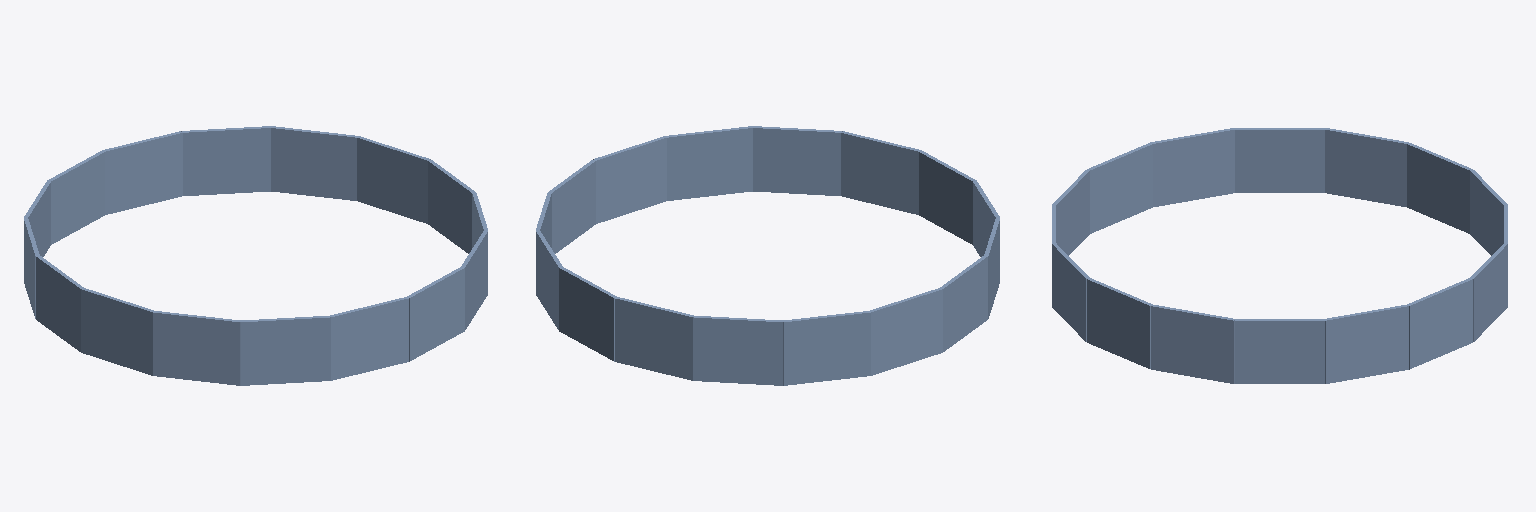
Rendered from ring.obj.
3 renders of one model, left to right at view 1: azimuth 30°, elevation 25°; view 2: azimuth 150°, elevation 25°; view 3: azimuth 270°, elevation 25°, orthographic.
Visible parts, largest first — view 1: Wall4, Wall6, Wall8, Wall2, Wall1, Wall10, Wall15, Wall12, Wall16, Wall7, Wall11, Wall14 (+3 smaller); view 2: Wall7, Wall16, Wall9, Wall13, Wall10, Wall1, Wall3, Wall5, Wall6, Wall4, Wall11, Wall14 (+3 smaller); view 3: Wall14, Wall11, Wall5, Wall12, Wall15, Wall3, Wall2, Wall13, Wall8, Wall9, Wall16, Wall6 (+2 smaller).
Boxes of the visible parts, x1=… form: Wall4: x1=241, y1=316, x2=330, y2=385; Wall6: x1=181, y1=126, x2=270, y2=195; Wall8: x1=153, y1=311, x2=240, y2=385; Wall2: x1=271, y1=126, x2=357, y2=200; Wall1: x1=330, y1=297, x2=408, y2=380; Wall10: x1=103, y1=131, x2=182, y2=214; Wall15: x1=81, y1=288, x2=153, y2=375; Wall12: x1=357, y1=136, x2=430, y2=223; Wall16: x1=407, y1=267, x2=464, y2=361; Wall7: x1=47, y1=150, x2=104, y2=244; Wall11: x1=36, y1=255, x2=83, y2=351; Wall14: x1=428, y1=160, x2=475, y2=253; Wall7: x1=693, y1=316, x2=782, y2=385; Wall16: x1=753, y1=126, x2=842, y2=195; Wall9: x1=783, y1=311, x2=870, y2=385; Wall13: x1=666, y1=126, x2=752, y2=200; Wall10: x1=615, y1=297, x2=693, y2=380; Wall1: x1=841, y1=131, x2=920, y2=214; Wall3: x1=870, y1=288, x2=942, y2=375; Wall5: x1=593, y1=136, x2=666, y2=223; Wall6: x1=559, y1=267, x2=616, y2=361; Wall4: x1=918, y1=150, x2=976, y2=244; Wall11: x1=940, y1=256, x2=987, y2=351; Wall14: x1=548, y1=160, x2=595, y2=253; Wall14: x1=1235, y1=319, x2=1324, y2=383; Wall11: x1=1235, y1=128, x2=1324, y2=192; Wall5: x1=1151, y1=305, x2=1234, y2=383; Wall12: x1=1325, y1=305, x2=1408, y2=383; Wall15: x1=1151, y1=128, x2=1235, y2=206; Wall3: x1=1325, y1=128, x2=1408, y2=206; Wall2: x1=1407, y1=278, x2=1472, y2=369; Wall13: x1=1087, y1=278, x2=1152, y2=368; Wall8: x1=1087, y1=142, x2=1152, y2=233; Wall9: x1=1407, y1=143, x2=1472, y2=233; Wall16: x1=1052, y1=243, x2=1089, y2=341; Wall6: x1=1470, y1=243, x2=1507, y2=341.
Bounding box in the file's own units: 101 × 15.5 × 101.